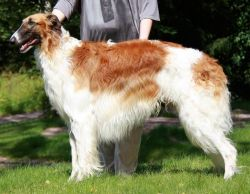borzoi: (10, 13, 241, 184)
